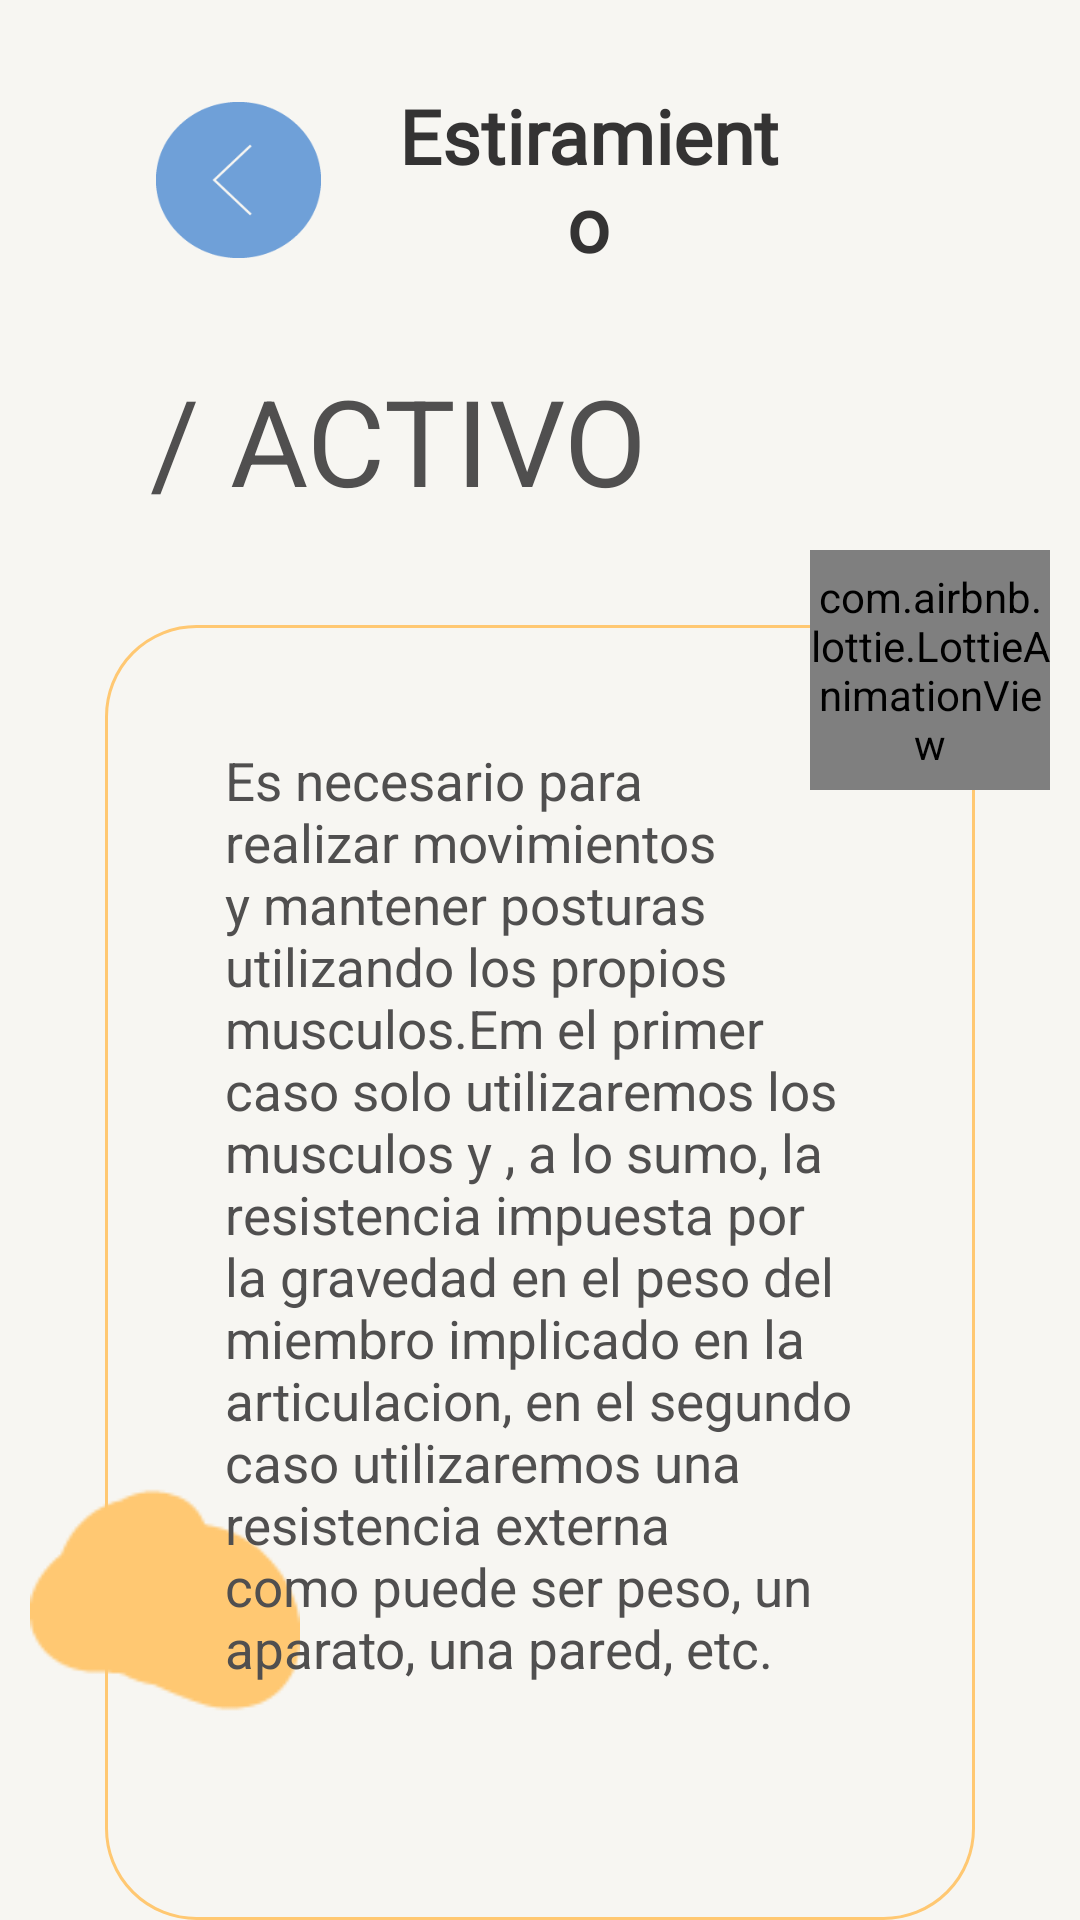

Locate icon controls on the screen. Image size 1080w x 1920h, boxes as (x1,y1,x2,y2).
mancha xdpi: (30,1480,300,1720)
regresar xxxdpi: (156,102,321,258)
